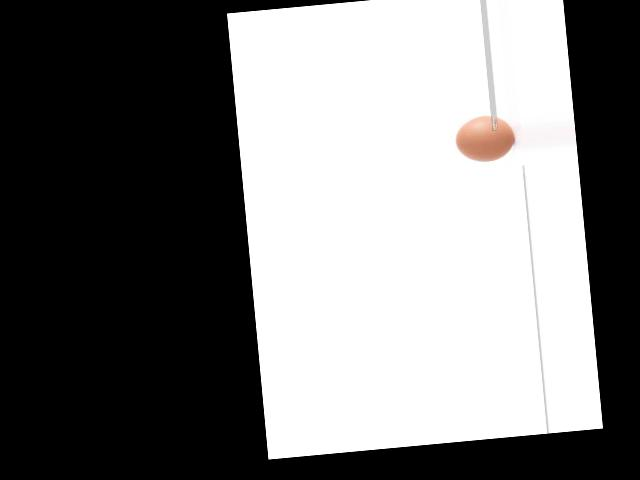egg: (453, 113, 515, 163)
